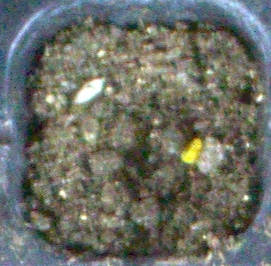chilli seed: (180, 137, 202, 164)
